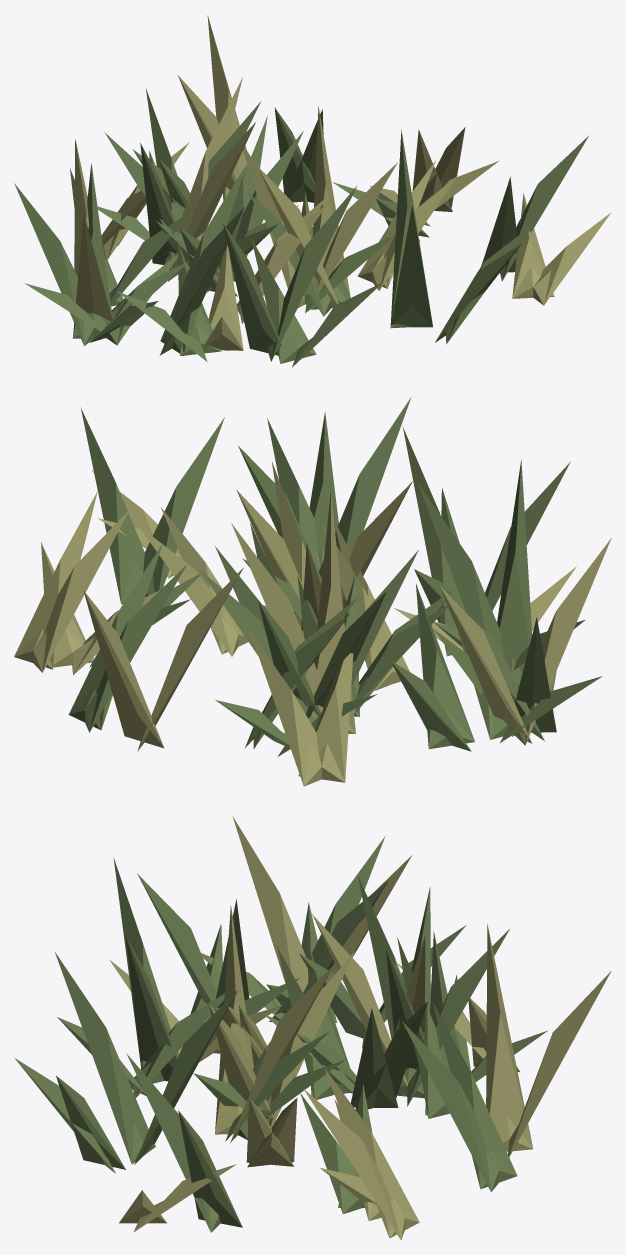
Rendered from grass_patch.glb.
3 renders of one model, top to bottom at view 1: azimuth 30°, elevation 25°; view 2: azimuth 150°, elevation 25°; view 3: azimuth 270°, elevation 25°, orthographic. The views are drawn at different scales.
Visible parts, largest first — view 1: Keep_Mesh; view 2: Keep_Mesh; view 3: Keep_Mesh.
Boxes of the visible parts, x1,y1,x2,y2 form: Keep_Mesh: (14,15,611,367); Keep_Mesh: (14,397,611,786); Keep_Mesh: (15,816,611,1240).
Bounding box in the file's own units: 1.25 × 0.3998 × 1.1.
